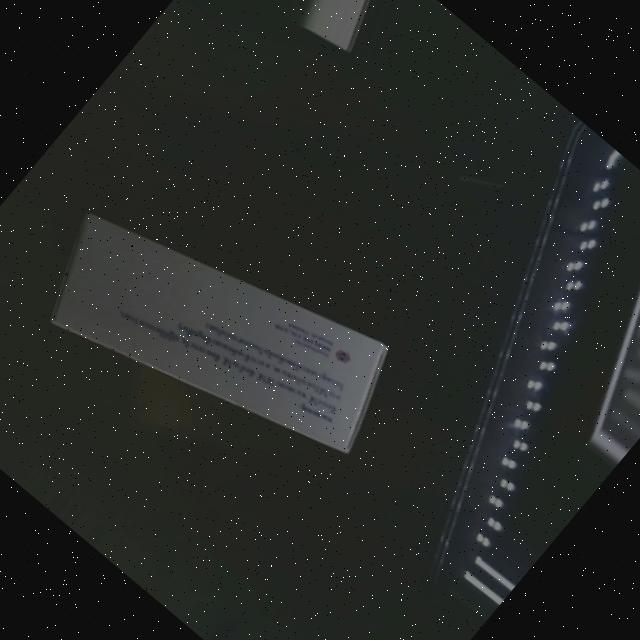sefloc: (23, 152, 408, 519)
